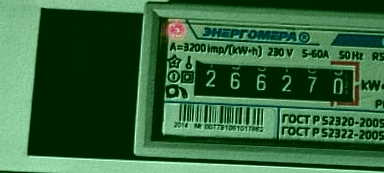0: (330, 75, 345, 96)
2: (203, 67, 217, 89), (280, 73, 294, 93)
6: (228, 69, 241, 91), (254, 71, 268, 91)
7: (306, 74, 317, 93)
screen: (182, 49, 367, 113)
